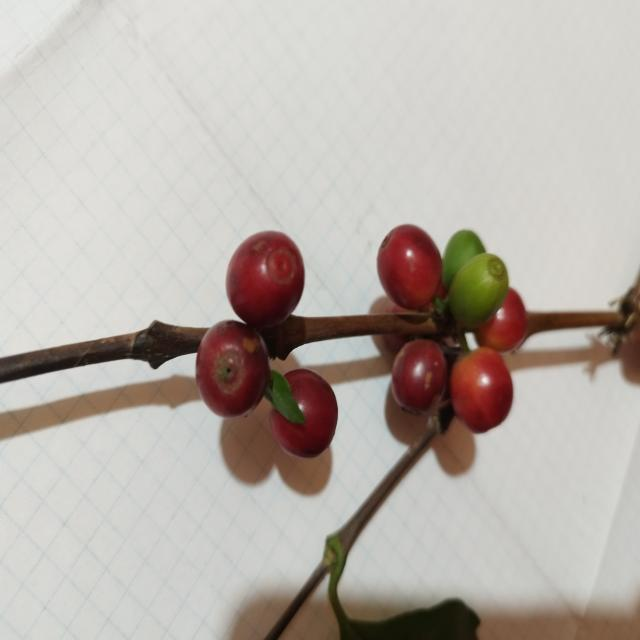Sano: (226, 231, 306, 327), (197, 322, 271, 418)
